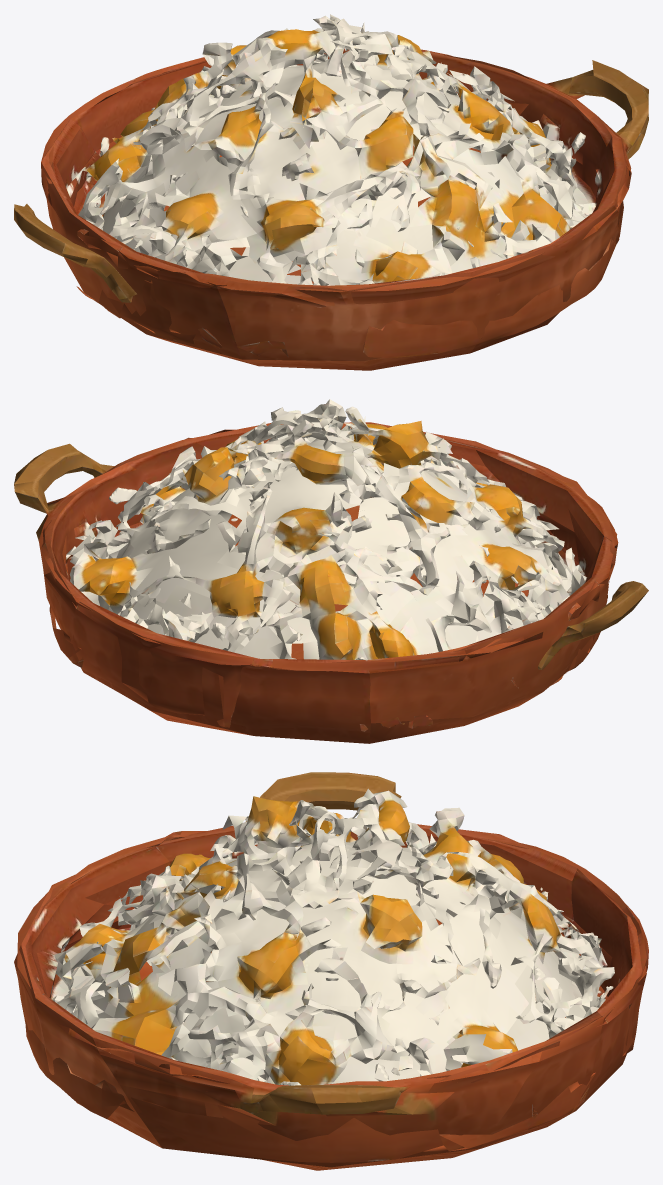
The model's file is pilav.glb.
The picture shows the model from 3 angles, top to bottom: view 1: azimuth 30°, elevation 25°; view 2: azimuth 150°, elevation 25°; view 3: azimuth 270°, elevation 25°; orthographic projection. The views are drawn at different scales.
Parts seen in each view (by area): view 1: Mesh0; view 2: Mesh0; view 3: Mesh0.
Boxes of the visible parts, x1,y1,x2,y2 form: Mesh0: (14, 14, 648, 370); Mesh0: (14, 399, 648, 743); Mesh0: (14, 772, 648, 1170).
Size of the model in its own units: 1.88 by 0.7072 by 1.55.
1 material, 1 textured.
